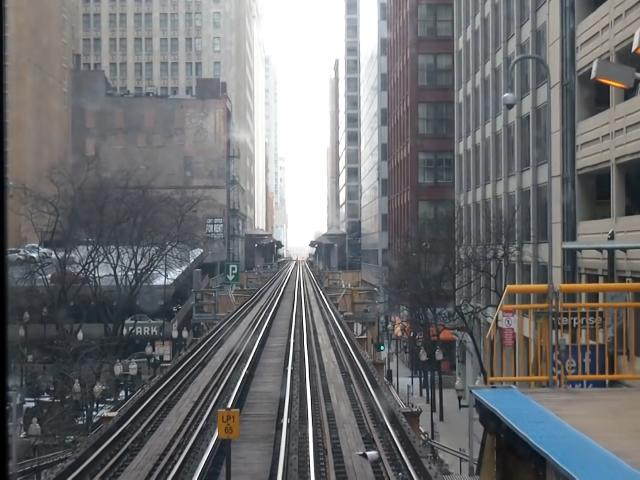signal light: (378, 334, 387, 356)
